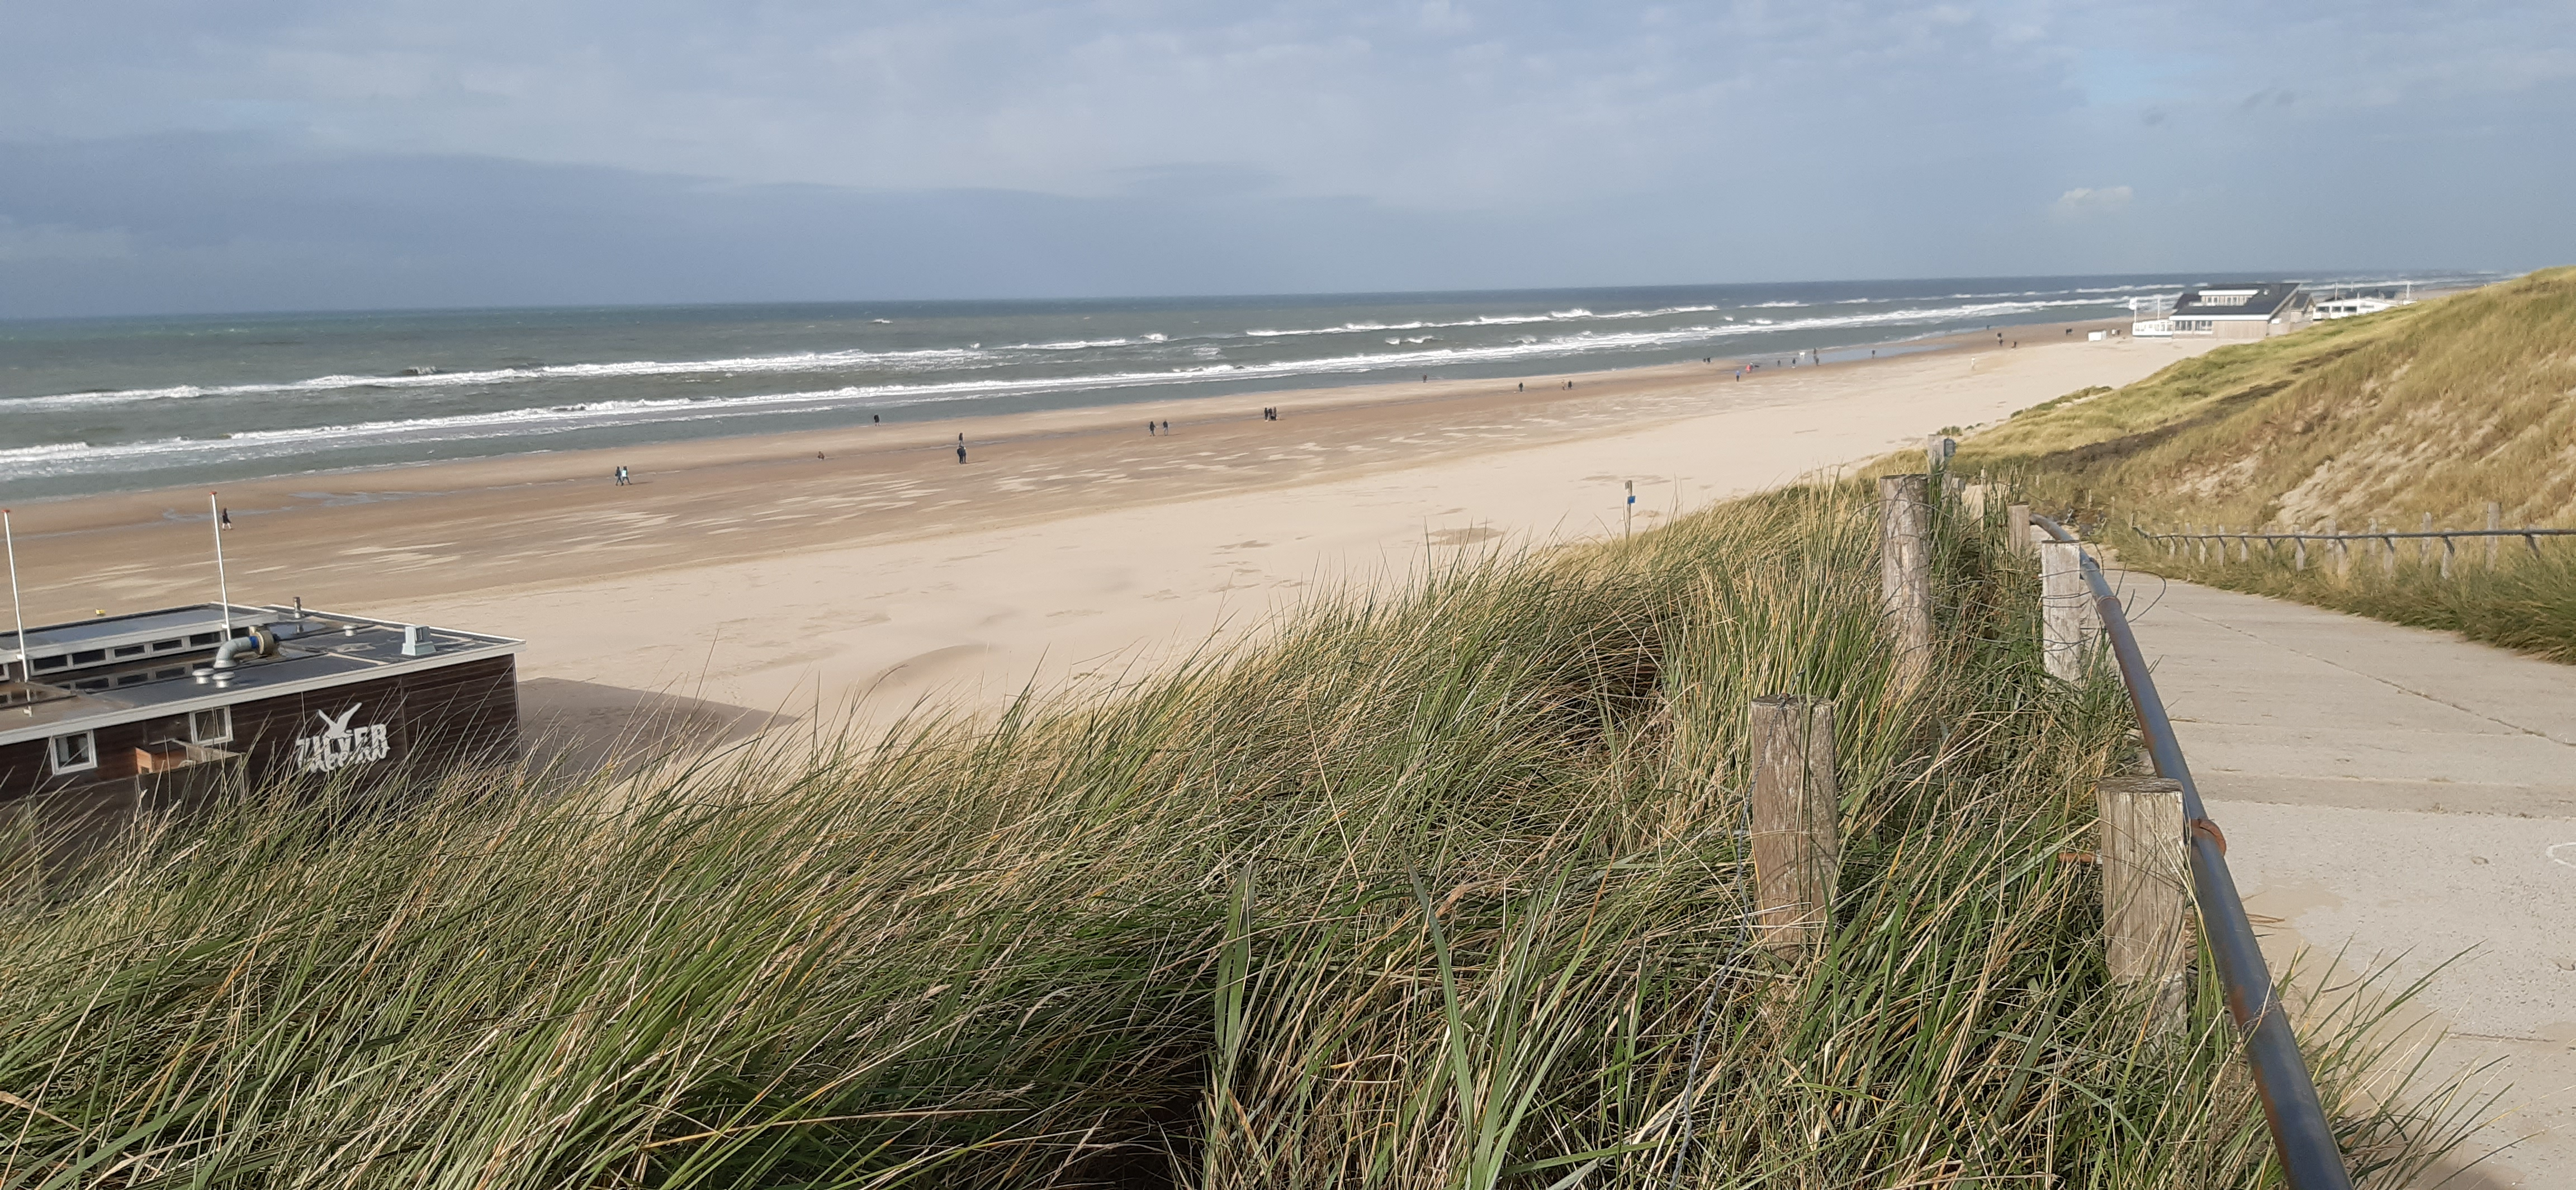pad: (1990, 491, 2576, 1113)
